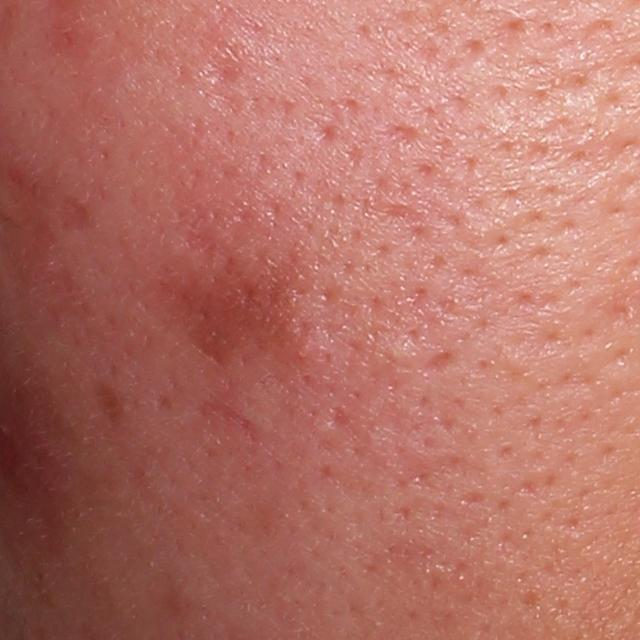atrophic_scar: (415, 346, 459, 376), (385, 121, 422, 146), (314, 118, 344, 146), (327, 406, 355, 433)
